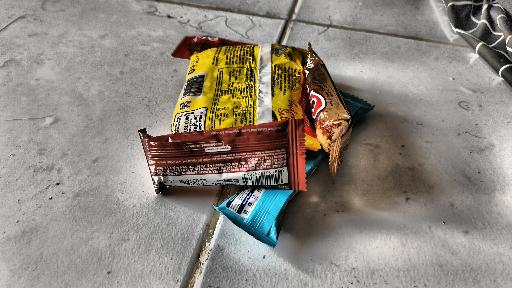indomie: (169, 31, 311, 128)
top: (141, 121, 305, 195), (302, 45, 354, 161)
